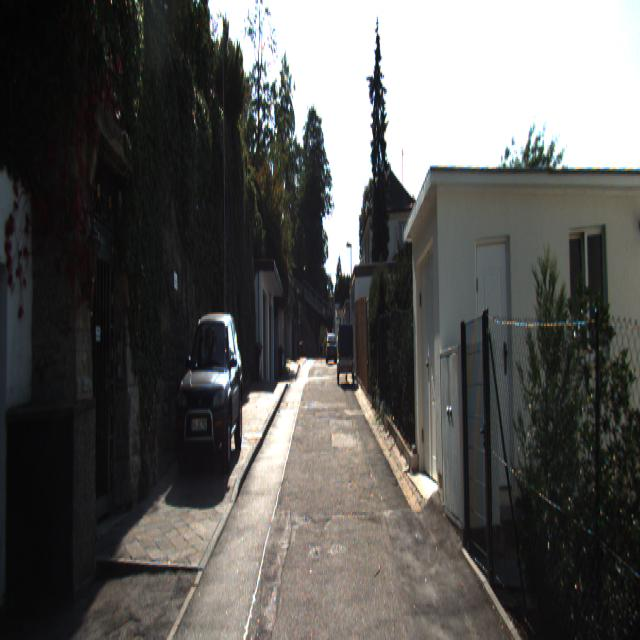Car: (172, 301, 244, 460), (338, 320, 356, 387)
